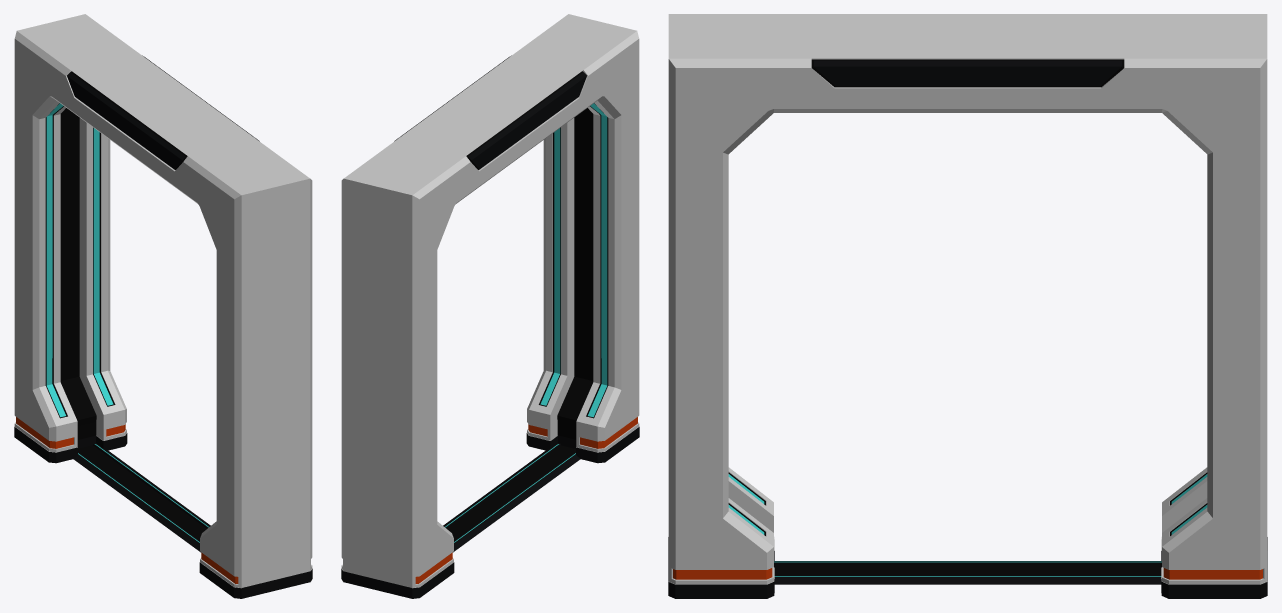
File: SM_DoorFrame_Double.obj
3 views of the same model, side by side, from view 1: azimuth 30°, elevation 25°; view 2: azimuth 150°, elevation 25°; view 3: azimuth 270°, elevation 25° (orthographic). The views are drawn at different scales.
Visible parts, largest first — view 1: SM_DoorFrame_Double; view 2: SM_DoorFrame_Double; view 3: SM_DoorFrame_Double.
Boxes of the visible parts, x1,y1,x2,y2 form: SM_DoorFrame_Double: [14, 14, 312, 598]; SM_DoorFrame_Double: [341, 14, 639, 598]; SM_DoorFrame_Double: [668, 14, 1267, 598].
Size of the model in its own units: 0.4034 by 1.98 by 2.
